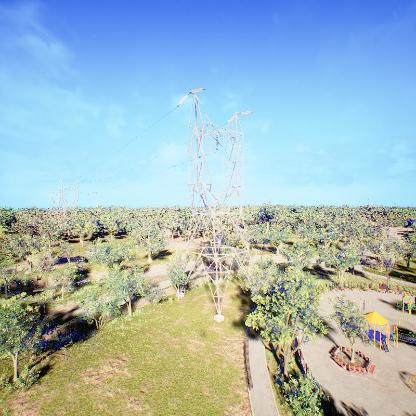tower: (170, 82, 262, 322)
